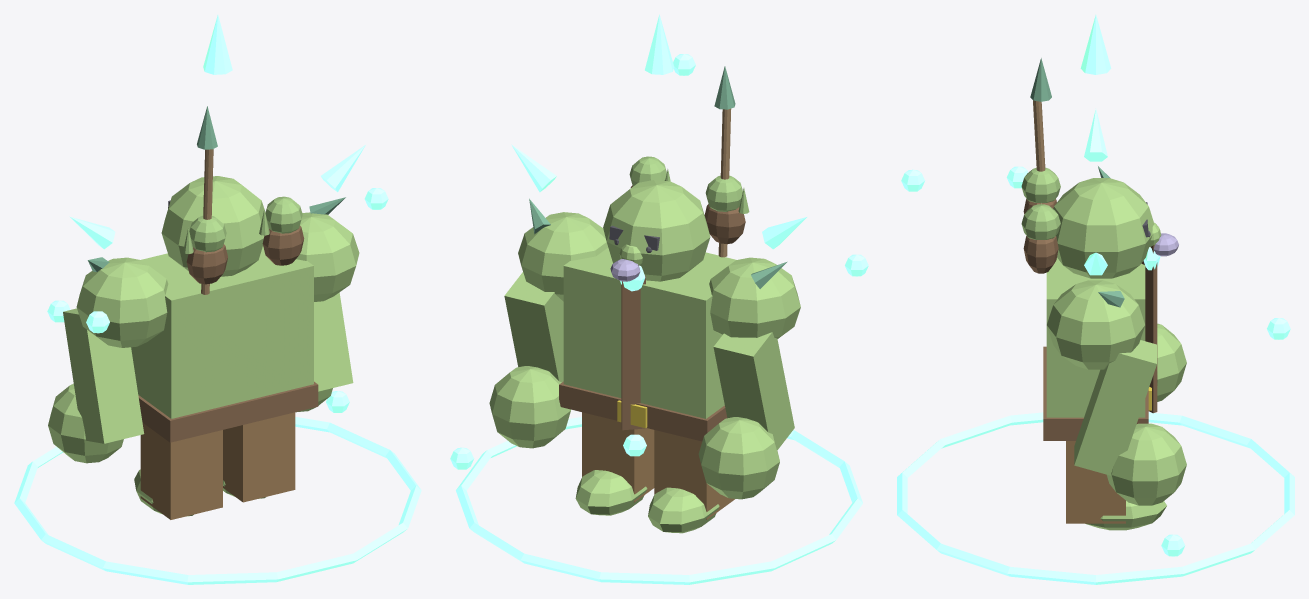
The model's file is evolved_goblin_giant.glb.
3 views of the same model, side by side, from view 1: azimuth 30°, elevation 25°; view 2: azimuth 150°, elevation 25°; view 3: azimuth 270°, elevation 25° (orthographic).
Visible parts, largest first — view 1: evolved_goblin_giant; view 2: evolved_goblin_giant; view 3: evolved_goblin_giant.
Boxes of the visible parts, x1=… form: evolved_goblin_giant: x1=14, y1=15, x2=421, y2=584; evolved_goblin_giant: x1=450, y1=14, x2=868, y2=584; evolved_goblin_giant: x1=897, y1=15, x2=1294, y2=584.
Size of the model in its own units: 4.1 by 5.48 by 3.99.
